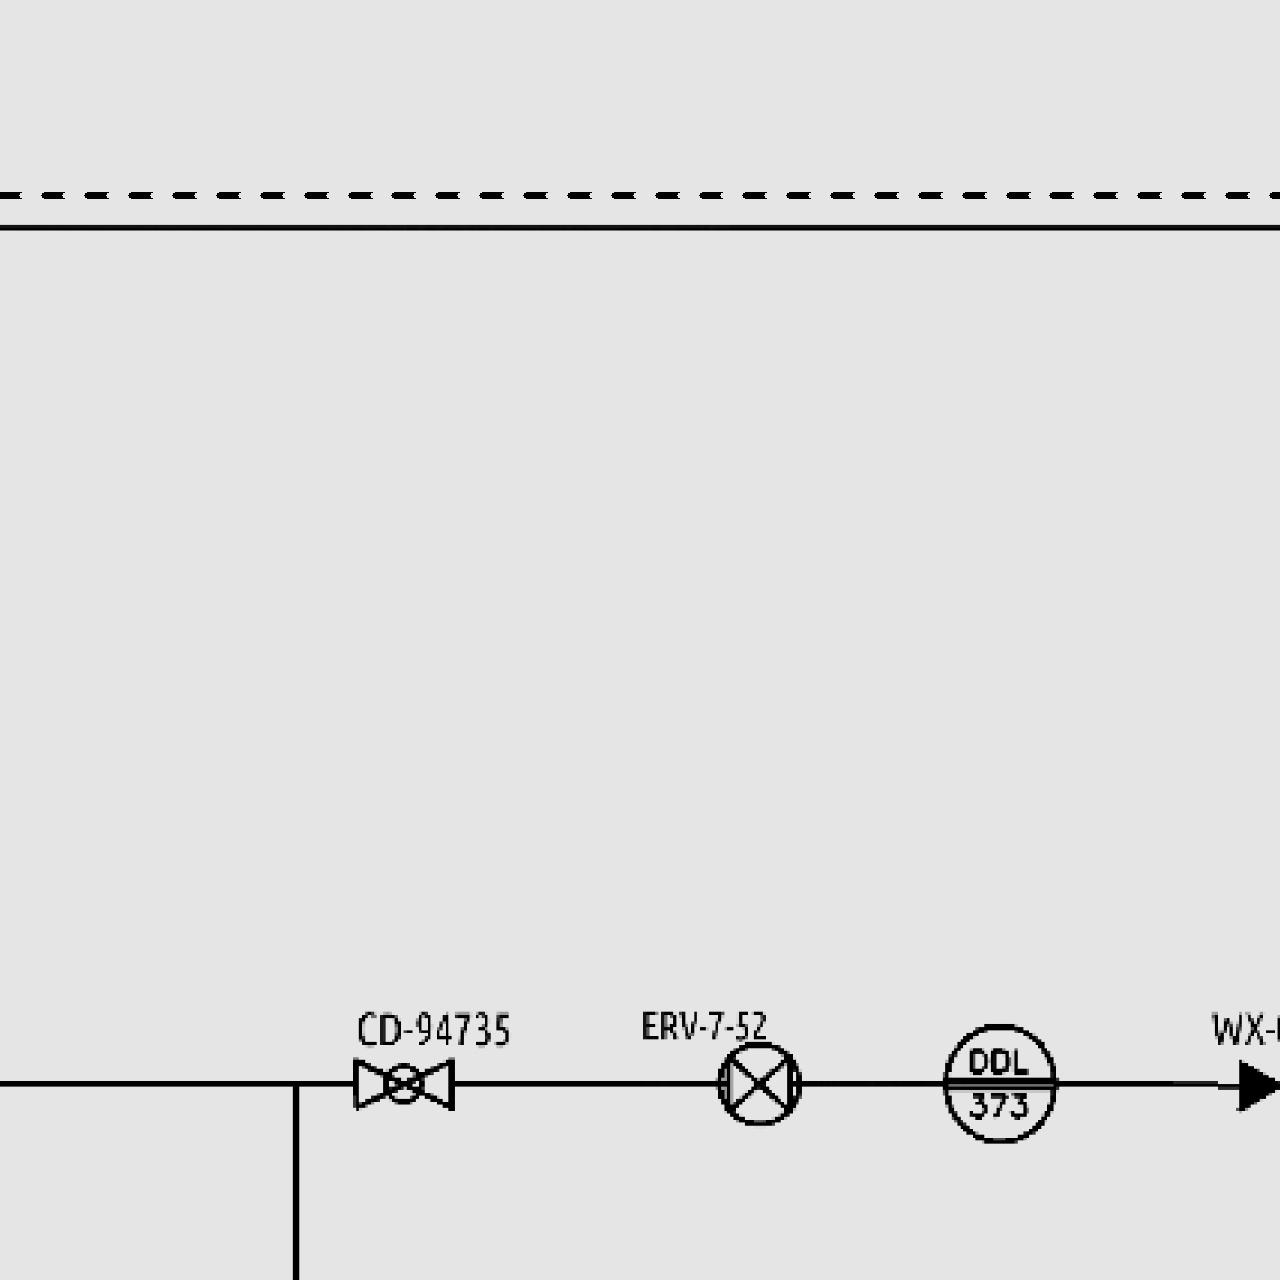Control-Panel: (935, 1017, 1064, 1148)
